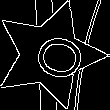O_W: (17, 26, 83, 84)
